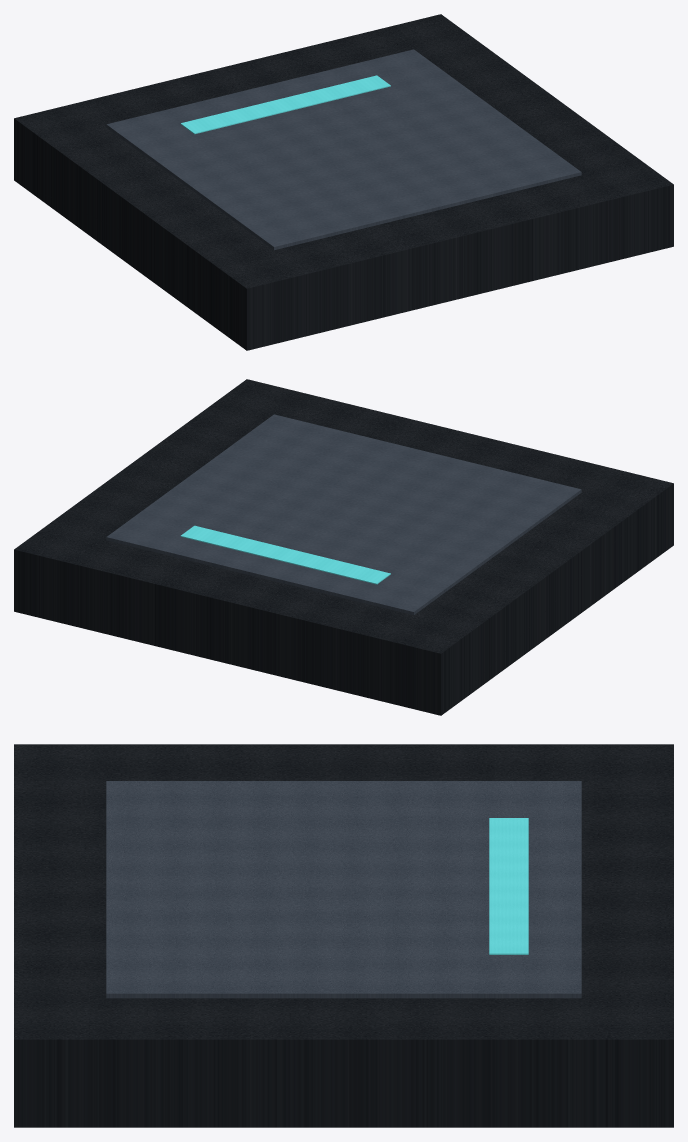
The picture shows the model from 3 angles, top to bottom: view 1: azimuth 30°, elevation 25°; view 2: azimuth 150°, elevation 25°; view 3: azimuth 270°, elevation 25°; orthographic projection. The views are drawn at different scales.
Visible parts, largest first — view 1: 000_Black_Epoxy__PSMAT__Black_Epoxy, 001_Silicon_Die__PSMAT__Silicon_Die, 002_Silkscreen_Cyan__PSMAT__Silkscreen_Cyan; view 2: 000_Black_Epoxy__PSMAT__Black_Epoxy, 001_Silicon_Die__PSMAT__Silicon_Die, 002_Silkscreen_Cyan__PSMAT__Silkscreen_Cyan; view 3: 000_Black_Epoxy__PSMAT__Black_Epoxy, 001_Silicon_Die__PSMAT__Silicon_Die, 002_Silkscreen_Cyan__PSMAT__Silkscreen_Cyan.
Boxes of the visible parts, x1,y1,x2,y2 form: 000_Black_Epoxy__PSMAT__Black_Epoxy: [14, 14, 673, 350]; 001_Silicon_Die__PSMAT__Silicon_Die: [106, 49, 581, 250]; 002_Silkscreen_Cyan__PSMAT__Silkscreen_Cyan: [180, 75, 390, 134]; 000_Black_Epoxy__PSMAT__Black_Epoxy: [14, 379, 673, 715]; 001_Silicon_Die__PSMAT__Silicon_Die: [106, 414, 581, 615]; 002_Silkscreen_Cyan__PSMAT__Silkscreen_Cyan: [180, 525, 390, 584]; 000_Black_Epoxy__PSMAT__Black_Epoxy: [14, 744, 673, 1127]; 001_Silicon_Die__PSMAT__Silicon_Die: [106, 781, 581, 998]; 002_Silkscreen_Cyan__PSMAT__Silkscreen_Cyan: [489, 818, 528, 954].
Size of the model in its own units: 0.018 by 0.00325 by 0.017.
4 materials, 4 textured.
